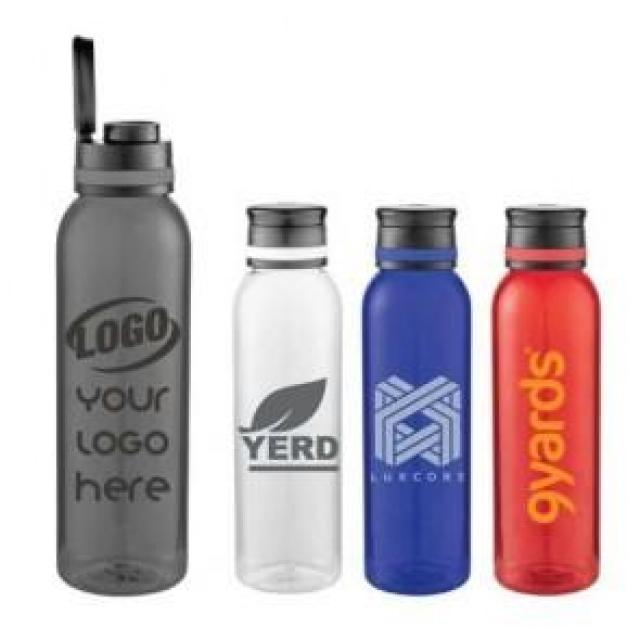plastic_bottle: (48, 27, 210, 598), (227, 186, 359, 601), (487, 189, 617, 599), (364, 176, 484, 599)
